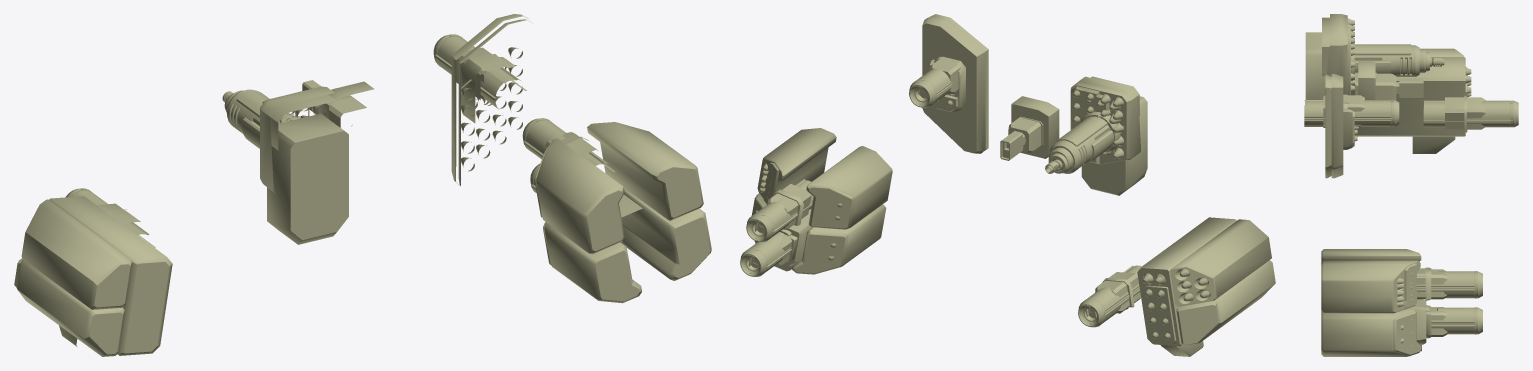
The model's file is TrebuchetWeapons.glb.
3 views of the same model, side by side, from view 1: azimuth 30°, elevation 25°; view 2: azimuth 150°, elevation 25°; view 3: azimuth 270°, elevation 25° (orthographic). The views are drawn at different scales.
Visible parts, largest first — view 1: Forearm_Right_MH1_Missile2, Forearm_Left_MH1_Missile20, Torso_Left_BH1_AC20, Forearm_Right_MH1_Missile10, Forearm_Left_MH1_Missile2, Forearm_Right_MH1_Missile15, Torso_Left_BH1_AC2, Forearm_Left_MH1_Missile15, Forearm_Right_MH1_Missile5, Torso_Left_BH1_AC10, Torso_Left_BH1_AC5, Forearm_Left_MH1_Missile6 (+15 smaller); view 2: Forearm_Right_MH1_Missile2, Forearm_Left_MH1_Missile20, Torso_Right_MH1_Missile2, Forearm_Left_MH1_Missile15, Torso_Left_BH1_AC20, Forearm_Right_MH1_Missile15, Torso_Left_MH1_Missile10, Forearm_Left_MH1_Missile2, Forearm_Right_MH1_Missile10, Torso_Center_EH1_Laser, Forearm_Right_EH2_PPC, Forearm_Right_EH1_PPC (+18 smaller); view 3: Forearm_Right_MH1_Missile15, Forearm_Left_MH1_Missile15, Torso_Right_EH1_PPC, Torso_Left_BH1_AC20, Forearm_Left_EH1_PPC, Forearm_Right_EH2_PPC, Forearm_Right_MH1_Missile6, Forearm_Right_EH1_PPC, Forearm_Right_MH1_Missile10, Forearm_Right_MH1_Missile5, Torso_Center_EH1_Flamer, Torso_Left_MH1_Missile15 (+18 smaller).
Part boxes in pixels (x1,y1,x2,y2): Forearm_Right_MH1_Missile2: (534,123,705,302); Forearm_Left_MH1_Missile20: (17,196,132,356); Torso_Left_BH1_AC20: (226,89,348,232); Forearm_Right_MH1_Missile10: (544,122,710,303); Forearm_Left_MH1_Missile2: (60,212,172,355); Forearm_Right_MH1_Missile15: (544,122,711,300); Torso_Left_BH1_AC2: (222,91,348,239); Forearm_Left_MH1_Missile15: (14,198,131,356); Forearm_Right_MH1_Missile5: (545,122,708,302); Torso_Left_BH1_AC10: (224,93,348,239); Torso_Left_BH1_AC5: (267,134,348,244); Forearm_Left_MH1_Missile6: (118,260,168,353); Forearm_Right_MH1_Missile2: (757,129,892,274); Forearm_Left_MH1_Missile20: (1140,217,1275,356); Torso_Right_MH1_Missile2: (922,16,985,153); Forearm_Left_MH1_Missile15: (1137,219,1248,356); Torso_Left_BH1_AC20: (1048,111,1120,194); Forearm_Right_MH1_Missile15: (756,128,881,269); Torso_Left_MH1_Missile10: (1070,86,1140,164); Forearm_Left_MH1_Missile2: (1142,232,1205,356); Forearm_Right_MH1_Missile10: (755,128,889,274); Torso_Center_EH1_Laser: (1008,96,1059,158); Forearm_Right_EH2_PPC: (740,225,811,276); Forearm_Right_EH1_PPC: (746,179,813,242); Forearm_Right_MH1_Missile15: (1321,249,1420,356); Forearm_Left_MH1_Missile15: (1351,48,1465,153); Torso_Right_EH1_PPC: (1304,87,1399,178); Torso_Left_BH1_AC20: (1309,43,1425,80); Forearm_Left_EH1_PPC: (1423,95,1518,131); Forearm_Right_EH2_PPC: (1418,305,1482,344); Forearm_Right_MH1_Missile6: (1321,249,1419,312); Forearm_Right_EH1_PPC: (1417,267,1482,300); Forearm_Right_MH1_Missile10: (1321,249,1421,356); Forearm_Right_MH1_Missile5: (1321,252,1421,356); Torso_Center_EH1_Flamer: (1355,61,1423,99); Torso_Left_MH1_Missile15: (1324,14,1354,95).
Size of the model in its own units: 1.7 by 0.8091 by 0.6942.
